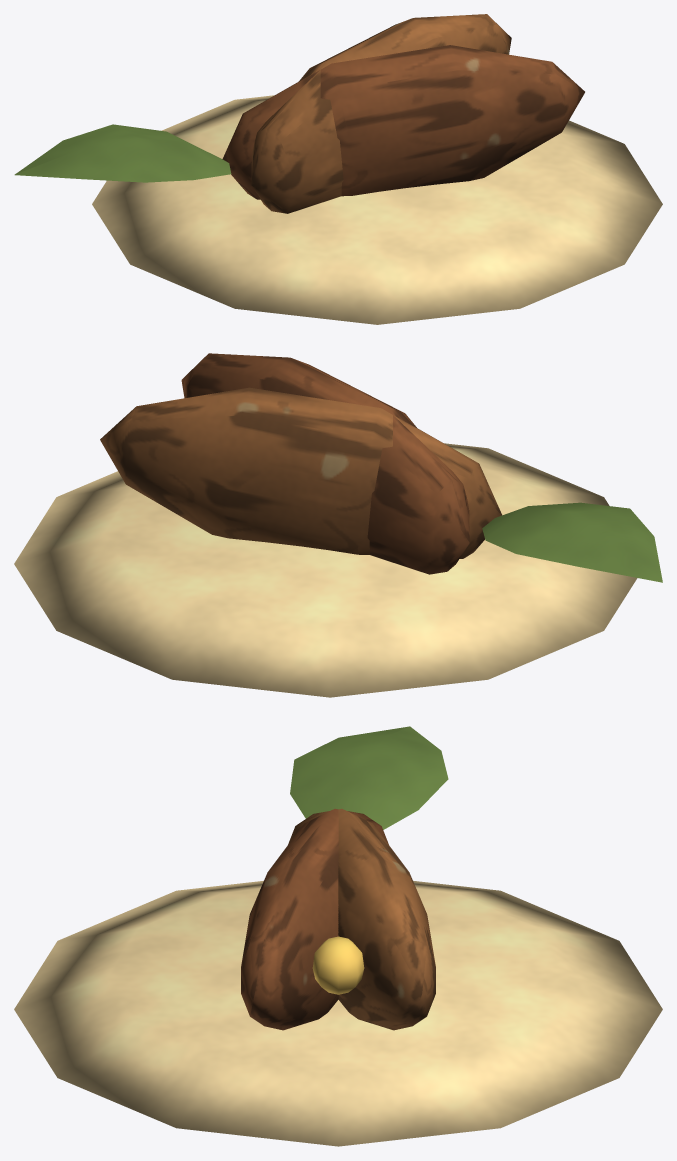
File: drift_pod.glb
The picture shows the model from 3 angles, top to bottom: view 1: azimuth 30°, elevation 25°; view 2: azimuth 150°, elevation 25°; view 3: azimuth 270°, elevation 25°; orthographic projection. The views are drawn at different scales.
Visible parts, largest first — view 1: DriftPod; view 2: DriftPod; view 3: DriftPod.
Boxes of the visible parts, x1=… form: DriftPod: x1=14, y1=14, x2=662, y2=324; DriftPod: x1=14, y1=353, x2=662, y2=697; DriftPod: x1=14, y1=726, x2=662, y2=1146.
Size of the model in its own units: 0.6559 by 0.1757 by 0.56.
1 material, 1 textured.
